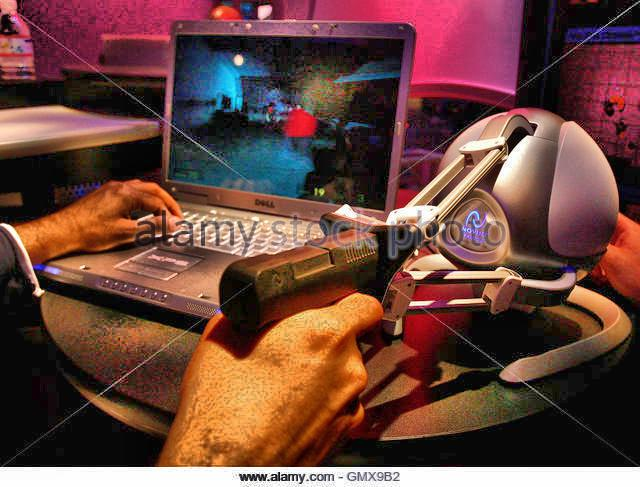pistol: (216, 198, 408, 370)
